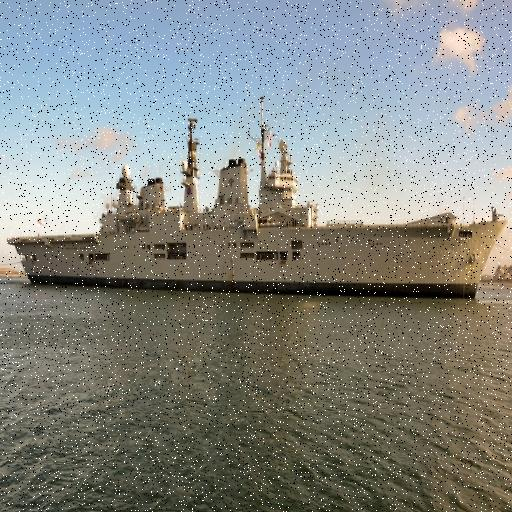Portanaves: (4, 91, 511, 302)
